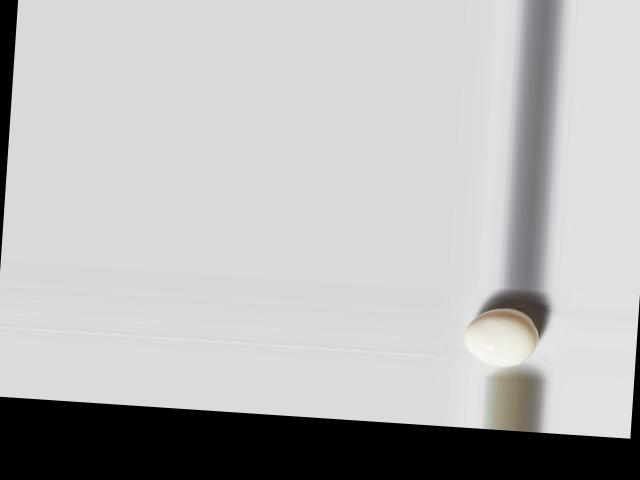egg: (463, 305, 541, 368)
